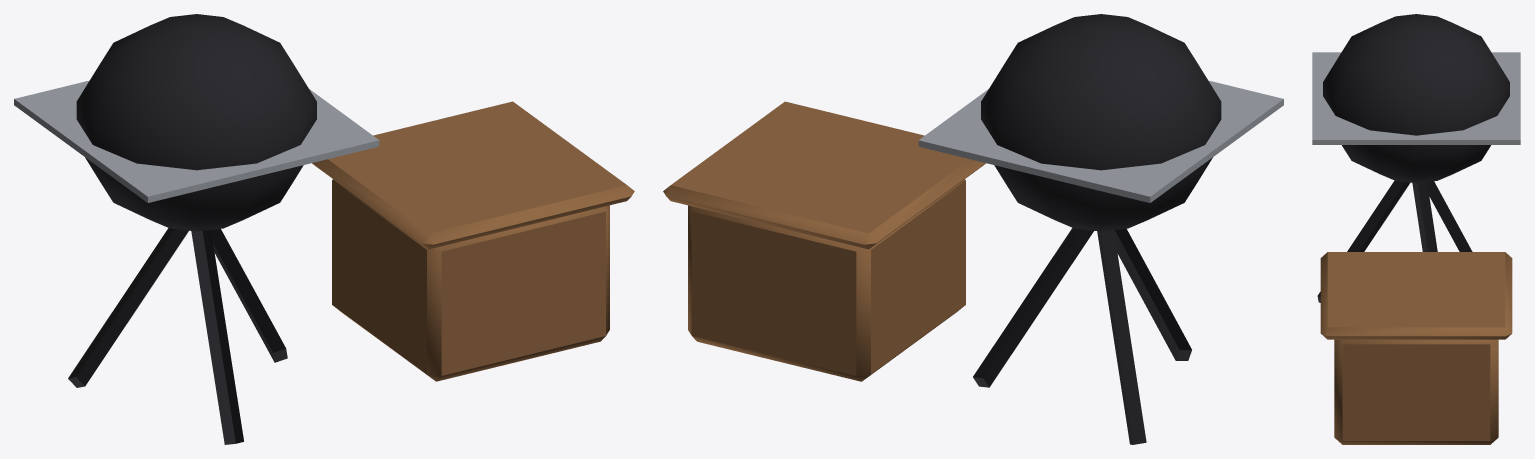
File: Bbq.fbx
The picture shows the model from 3 angles, left to right: view 1: azimuth 30°, elevation 25°; view 2: azimuth 150°, elevation 25°; view 3: azimuth 270°, elevation 25°; orthographic projection. The views are drawn at different scales.
Parts seen in each view (by area): view 1: Bbq; view 2: Bbq; view 3: Bbq.
Part boxes in pixels (left/top/right/bottom): Bbq: left=14, top=14, right=634, bottom=444; Bbq: left=663, top=14, right=1283, bottom=444; Bbq: left=1312, top=14, right=1520, bottom=444.
Size of the model in its own units: 1.63 by 1.16 by 0.76.
